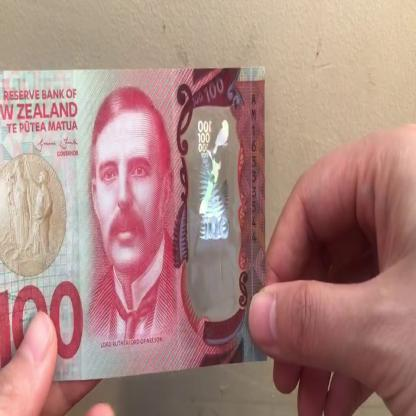100F: (193, 114, 236, 294)
